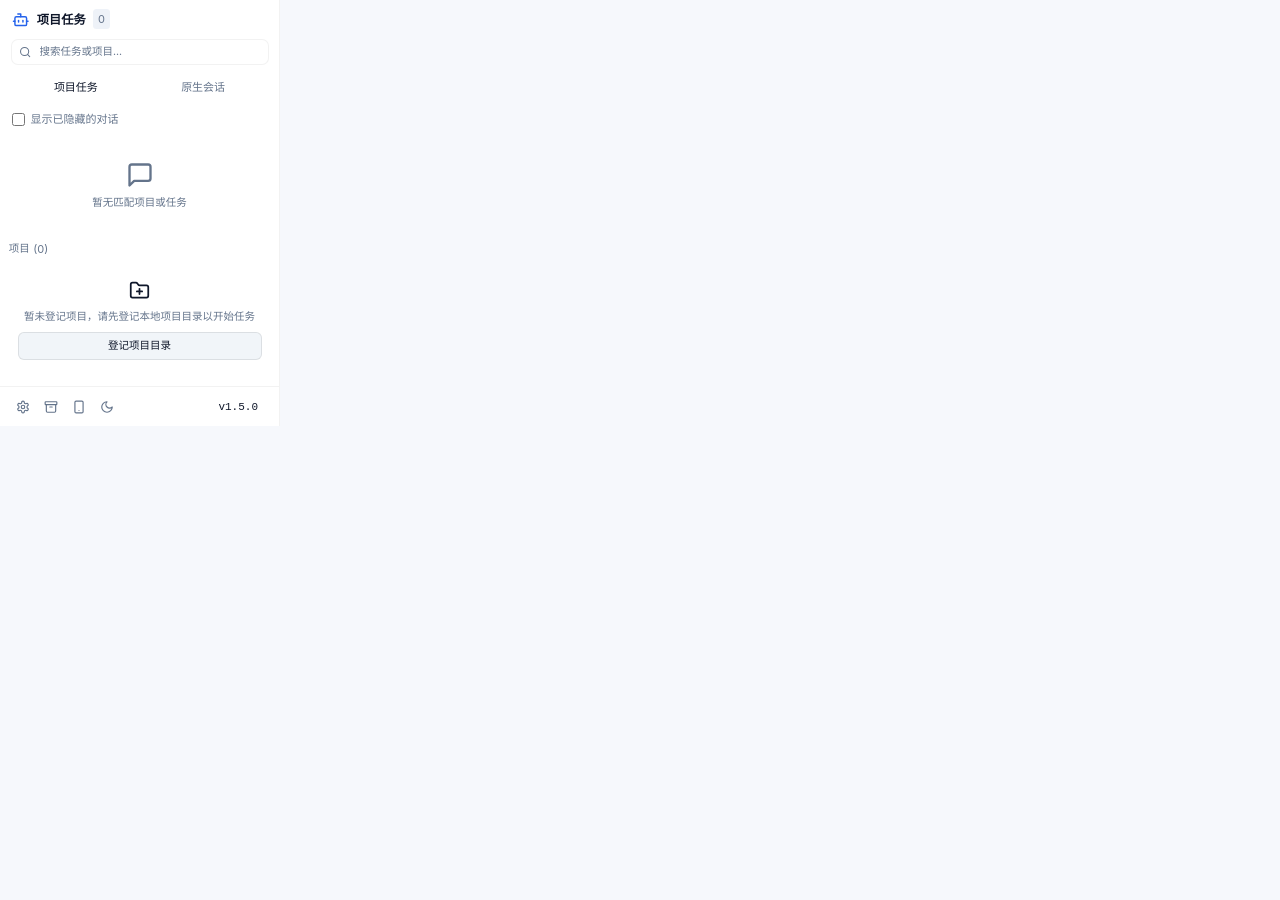
Test: ChatSidebar › guides user to register a project directory when no workspaces exist instead of using fallback
Click the button "登记项目目录": [140, 346] box x1=18 y1=332 x2=262 y2=360
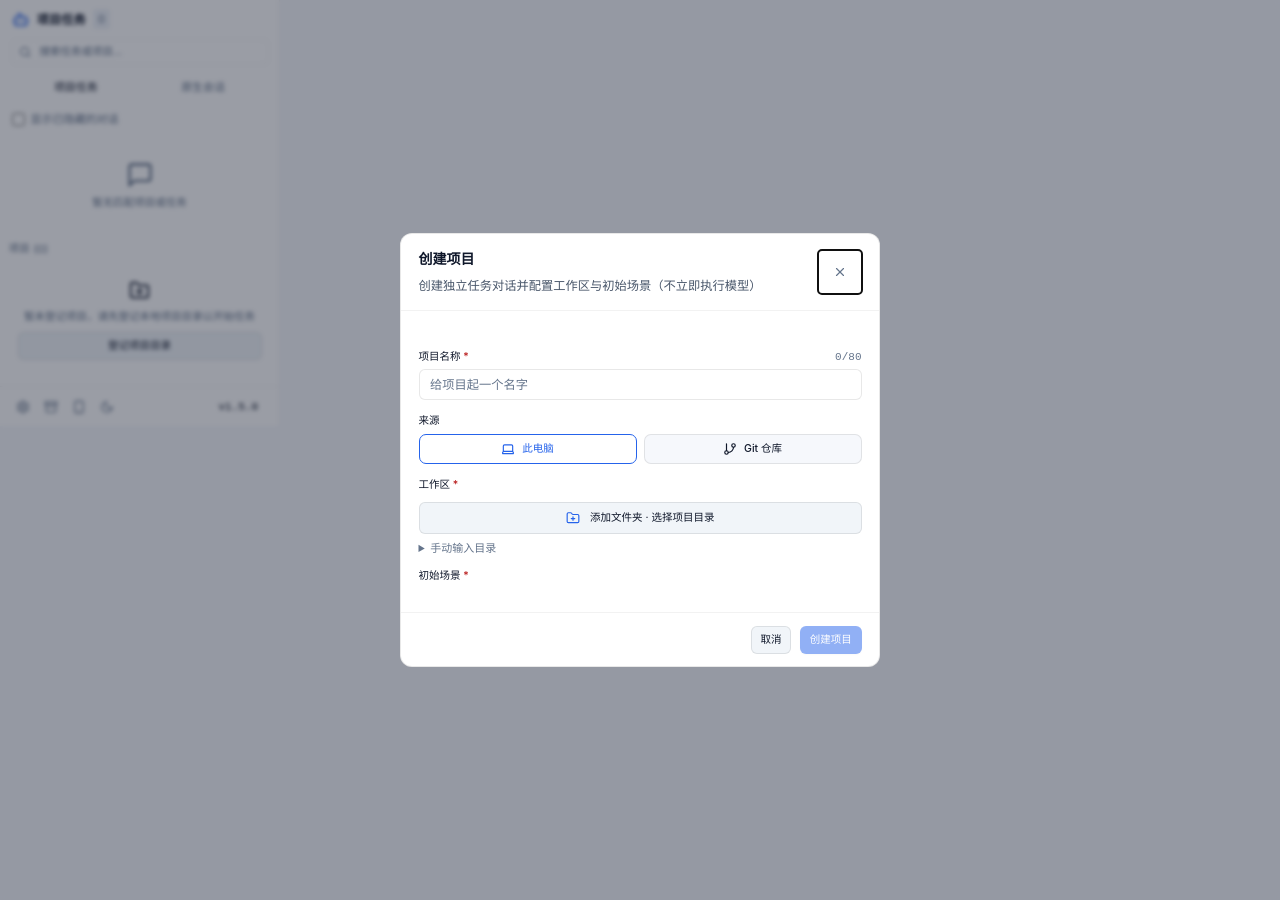
Check: the text "创建项目" is shown, box x1=418 y1=250 x2=474 y2=267
Check: the text "添加文件夹 · 选择项目目录" is shown, box x1=590 y1=511 x2=714 y2=525
Check: the button "创建项目" is disabled, box x1=800 y1=626 x2=862 y2=654
